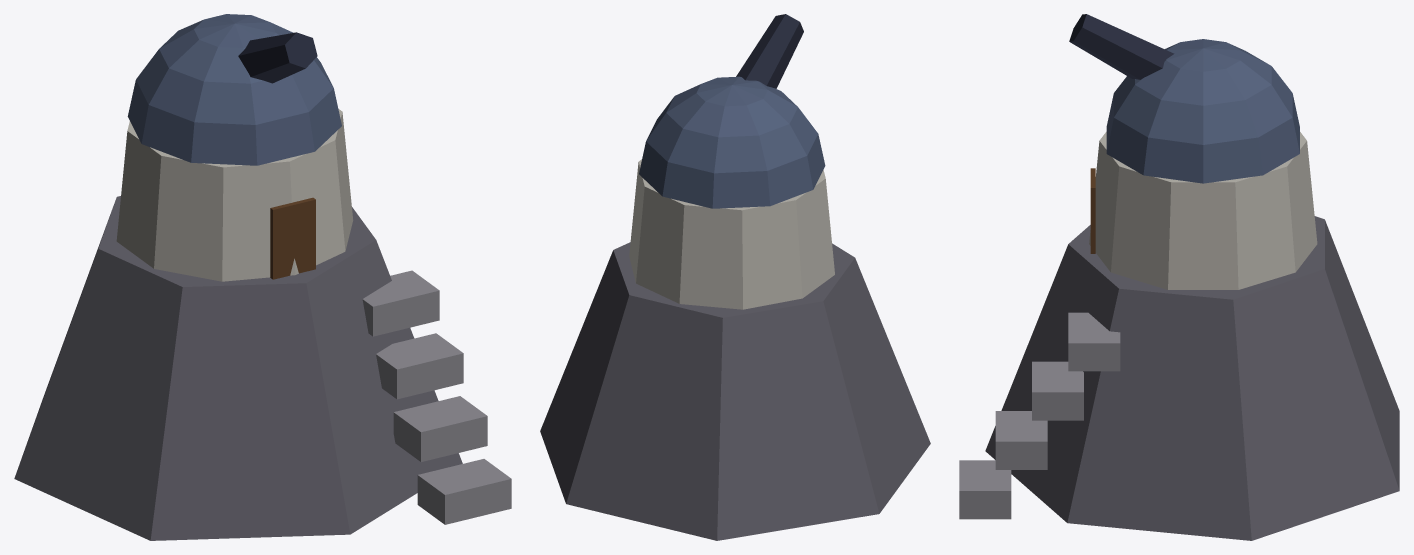
File: observatory.glb
The picture shows the model from 3 angles, left to right: view 1: azimuth 30°, elevation 25°; view 2: azimuth 150°, elevation 25°; view 3: azimuth 270°, elevation 25°; orthographic projection. The views are drawn at different scales.
Parts seen in each view (by area): view 1: observatory; view 2: observatory; view 3: observatory.
Part boxes in pixels (x1=…): observatory: x1=14, y1=14, x2=511, y2=540; observatory: x1=540, y1=14, x2=930, y2=540; observatory: x1=959, y1=14, x2=1399, y2=540.
Size of the model in its own units: 0.4095 by 0.4646 by 0.4242.
